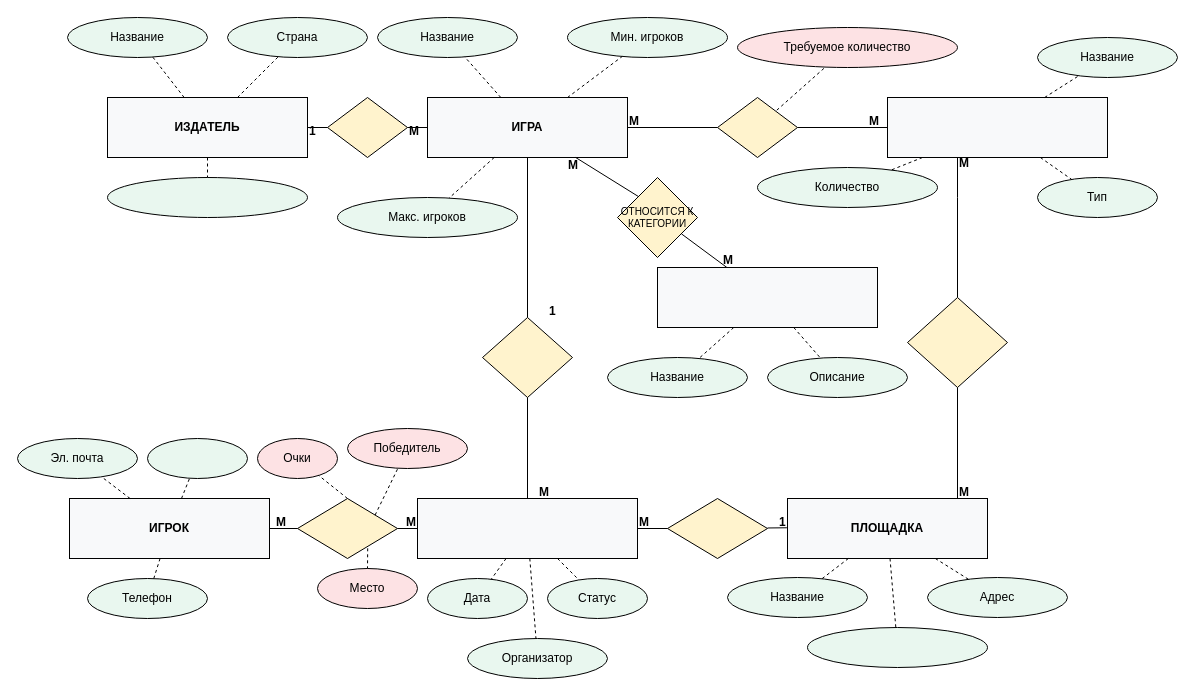
Image size: 1195x696. Some labels were removed from this diagram. Each missing label, with the centre of its shape:
Вместимость: the point at 897,647
Год основания: the point at 207,197
ИГРОВАЯ СЕССИЯ: the point at 527,528
ИЗДАЕТ: the point at 367,127
Имя: the point at 197,458
КАТЕГОРИЯ ИГРЫ: the point at 767,297
ОБОРУДОВАНИЕ: the point at 997,127
ПРИНАДЛЕЖИТ: the point at 957,342
ПРОВОДИТСЯ: the point at 527,357
ПРОХОДИТ НА: the point at 717,528
ТРЕБУЕТ: the point at 757,127
УЧАСТВУЕТ: the point at 347,528
